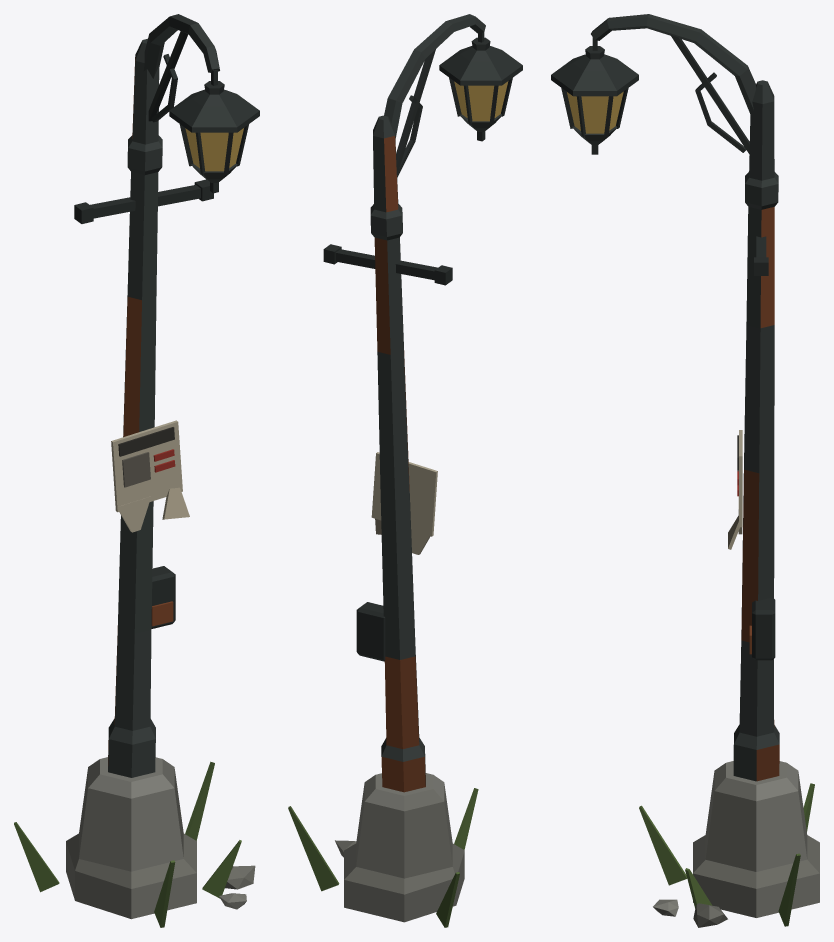
Rendered from poste.glb.
The picture shows the model from 3 angles, left to right: view 1: azimuth 30°, elevation 25°; view 2: azimuth 150°, elevation 25°; view 3: azimuth 270°, elevation 25°; orthographic projection. The views are drawn at different scales.
Visible parts, largest first — view 1: poste.001; view 2: poste.001; view 3: poste.001.
Boxes of the visible parts, bbox=[...] form: poste.001: bbox=[14, 14, 259, 927]; poste.001: bbox=[288, 14, 522, 927]; poste.001: bbox=[551, 14, 819, 927].
Bounding box in the file's own units: 0.739 × 3.31 × 0.9165.
